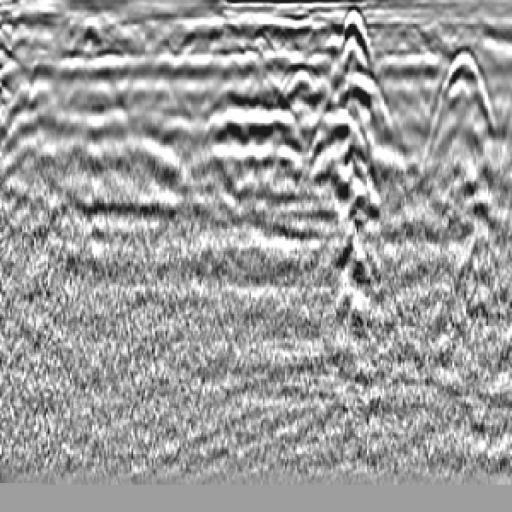metalic: (319, 12, 413, 392)
nonmetalic: (403, 39, 512, 212), (240, 52, 345, 190)
